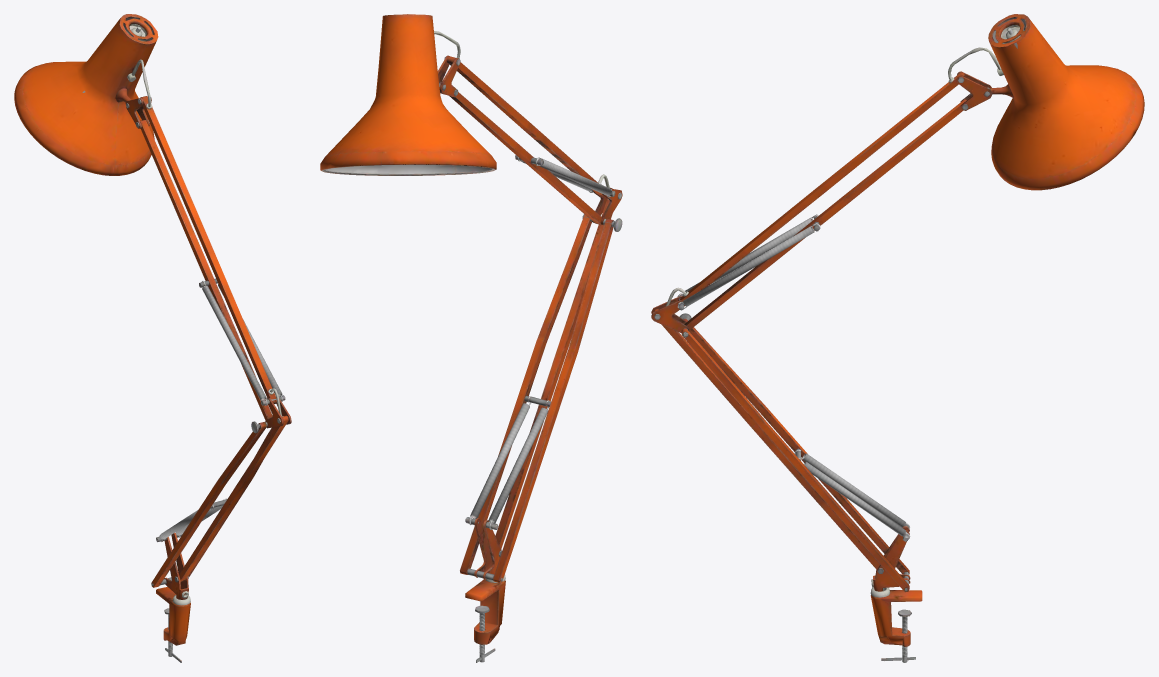
File: desk_lamp.glb
3 renders of one model, left to right at view 1: azimuth 30°, elevation 25°; view 2: azimuth 150°, elevation 25°; view 3: azimuth 270°, elevation 25°, orthographic. The views are drawn at different scales.
Visible parts, largest first — view 1: desk_lamp_arm_01; view 2: desk_lamp_arm_01; view 3: desk_lamp_arm_01.
Boxes of the visible parts, left/top/right/bottom form: desk_lamp_arm_01: left=14, top=14, right=291, bottom=662; desk_lamp_arm_01: left=320, top=14, right=622, bottom=662; desk_lamp_arm_01: left=651, top=14, right=1144, bottom=662.
Bounding box in the file's own units: 0.2017 × 0.8926 × 0.6139.
Materials: 2 (2 with a texture image).
